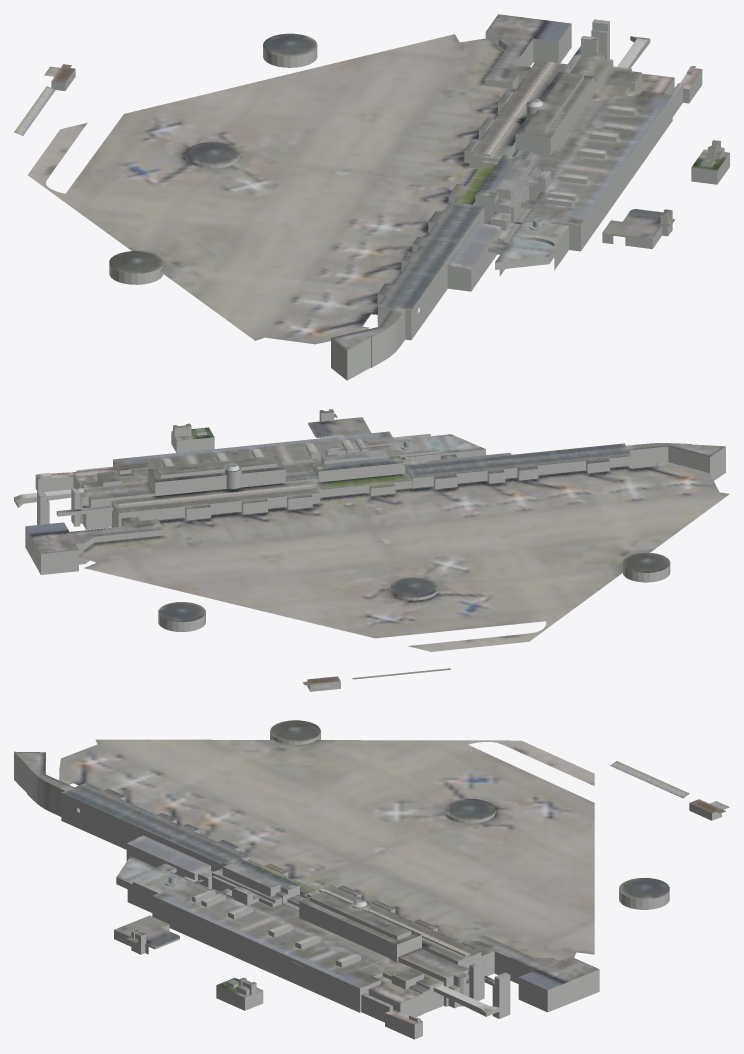
The model's file is LSGG_-1_-2.glb.
3 renders of one model, top to bottom at view 1: azimuth 30°, elevation 25°; view 2: azimuth 150°, elevation 25°; view 3: azimuth 270°, elevation 25°, orthographic. The views are drawn at different scales.
Parts seen in each view (by area): view 1: pavement_LSGG_pavement_4994_2241, building_4677b8871b3b5d2d, building_93f04964bd575eb4, building_0a8394837b85bca4, building_df6161207209151a, building_469945599a8daf96, building_a6eba30993194105, building_7b5c4a5f9323c325, building_9a618d2c6f0e8d80, building_a589b95476752417, building_9fbdb70f108b57cd, building_6c5f86821918d140 (+1 smaller); view 2: pavement_LSGG_pavement_4994_2241, building_4677b8871b3b5d2d, building_93f04964bd575eb4, building_df6161207209151a, building_0a8394837b85bca4, building_a6eba30993194105, building_7b5c4a5f9323c325, building_a589b95476752417, building_469945599a8daf96, building_9fbdb70f108b57cd, building_6c5f86821918d140, building_37e254e102c66975; view 3: pavement_LSGG_pavement_4994_2241, building_4677b8871b3b5d2d, building_93f04964bd575eb4, building_df6161207209151a, building_0a8394837b85bca4, building_a589b95476752417, building_a6eba30993194105, building_7b5c4a5f9323c325, building_469945599a8daf96, building_9fbdb70f108b57cd, building_9a618d2c6f0e8d80, building_fd3b7ae318021e88 (+1 smaller).
Part boxes in pixels (box(x1,y1,x2,y2)): pavement_LSGG_pavement_4994_2241: box(28, 34, 515, 344); building_4677b8871b3b5d2d: box(331, 14, 701, 350); building_93f04964bd575eb4: box(331, 24, 702, 380); building_0a8394837b85bca4: box(489, 199, 672, 249); building_df6161207209151a: box(498, 22, 650, 114); building_469945599a8daf96: box(263, 33, 317, 56); building_a6eba30993194105: box(186, 142, 240, 164); building_7b5c4a5f9323c325: box(109, 251, 163, 273); building_9a618d2c6f0e8d80: box(488, 202, 672, 253); building_a589b95476752417: box(661, 141, 729, 226); building_9fbdb70f108b57cd: box(498, 19, 649, 102); building_6c5f86821918d140: box(263, 46, 317, 67); pavement_LSGG_pavement_4994_2241: box(78, 462, 729, 651); building_4677b8871b3b5d2d: box(25, 431, 725, 553); building_93f04964bd575eb4: box(25, 434, 725, 574); building_df6161207209151a: box(14, 488, 210, 526); building_0a8394837b85bca4: box(308, 409, 457, 459); building_a6eba30993194105: box(390, 577, 438, 597); building_7b5c4a5f9323c325: box(622, 552, 670, 572); building_a589b95476752417: box(171, 417, 337, 452); building_469945599a8daf96: box(158, 602, 205, 621); building_9fbdb70f108b57cd: box(14, 487, 210, 512); building_6c5f86821918d140: box(158, 613, 205, 631); building_37e254e102c66975: box(622, 563, 670, 582); pavement_LSGG_pavement_4994_2241: box(59, 739, 594, 961); building_4677b8871b3b5d2d: box(14, 751, 599, 1024); building_93f04964bd575eb4: box(14, 752, 599, 1039); building_df6161207209151a: box(414, 921, 510, 1018); building_0a8394837b85bca4: box(114, 863, 231, 947); building_a589b95476752417: box(131, 941, 263, 1010); building_a6eba30993194105: box(444, 799, 495, 820); building_7b5c4a5f9323c325: box(270, 720, 320, 741); building_469945599a8daf96: box(619, 878, 669, 899); building_9fbdb70f108b57cd: box(415, 919, 509, 1012); building_9a618d2c6f0e8d80: box(114, 868, 231, 954); building_fd3b7ae318021e88: box(610, 761, 689, 798).
Size of the model in its own units: 517 by 40.99 by 526.
3 materials, 2 textured.
